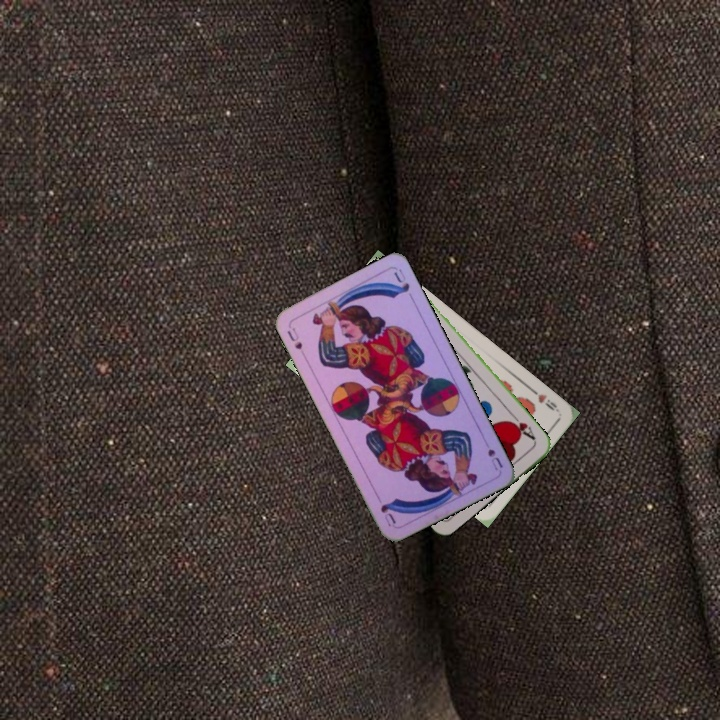H9: (526, 384, 561, 415)
HA: (506, 410, 538, 444)
SU: (479, 434, 505, 473), (283, 323, 305, 352)
